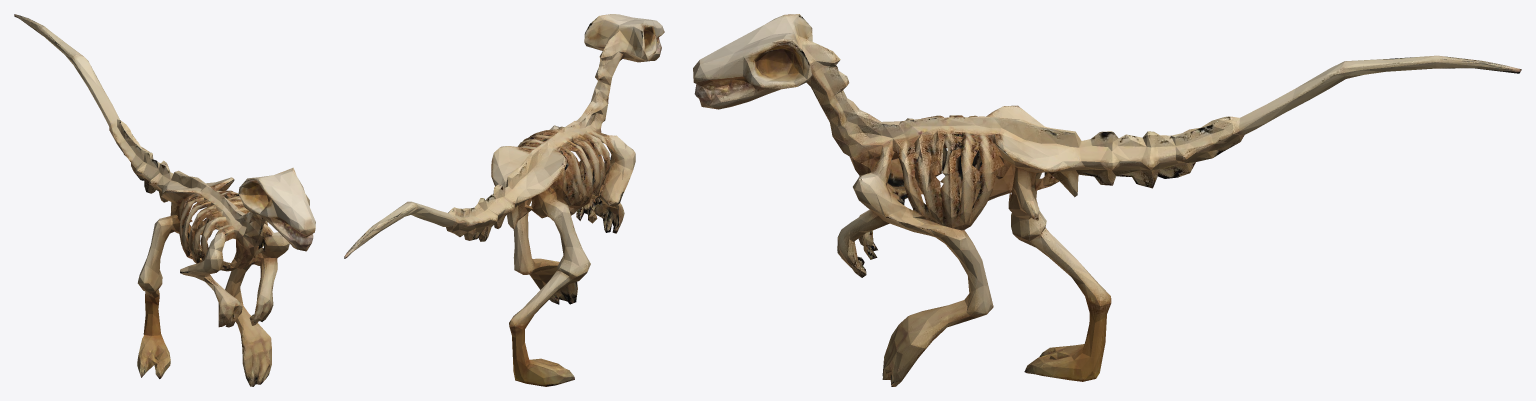
Rendered from compsognathus-skjelett.glb.
3 renders of one model, left to right at view 1: azimuth 30°, elevation 25°; view 2: azimuth 150°, elevation 25°; view 3: azimuth 270°, elevation 25°, orthographic. The views are drawn at different scales.
Visible parts, largest first — view 1: geometry_0; view 2: geometry_0; view 3: geometry_0.
Part boxes in pixels (box(x1,y1,x2,y2)): geometry_0: box(14, 14, 315, 386); geometry_0: box(344, 14, 664, 386); geometry_0: box(693, 14, 1521, 386).
Bounding box in the file's own units: 0.2016 × 0.4893 × 0.9999.
1 material, 1 textured.
